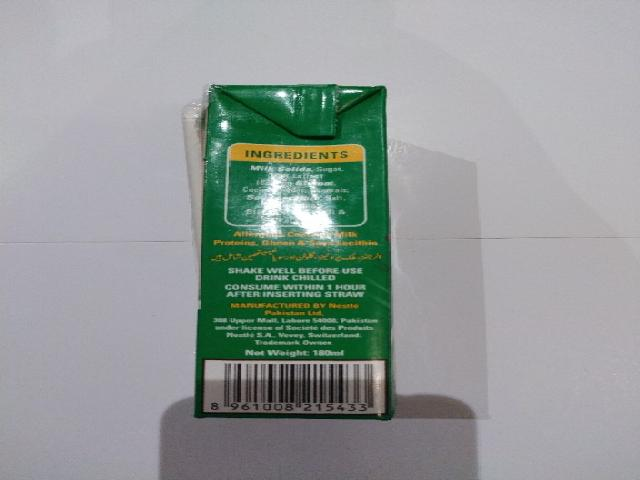drink_box: (195, 84, 393, 420)
